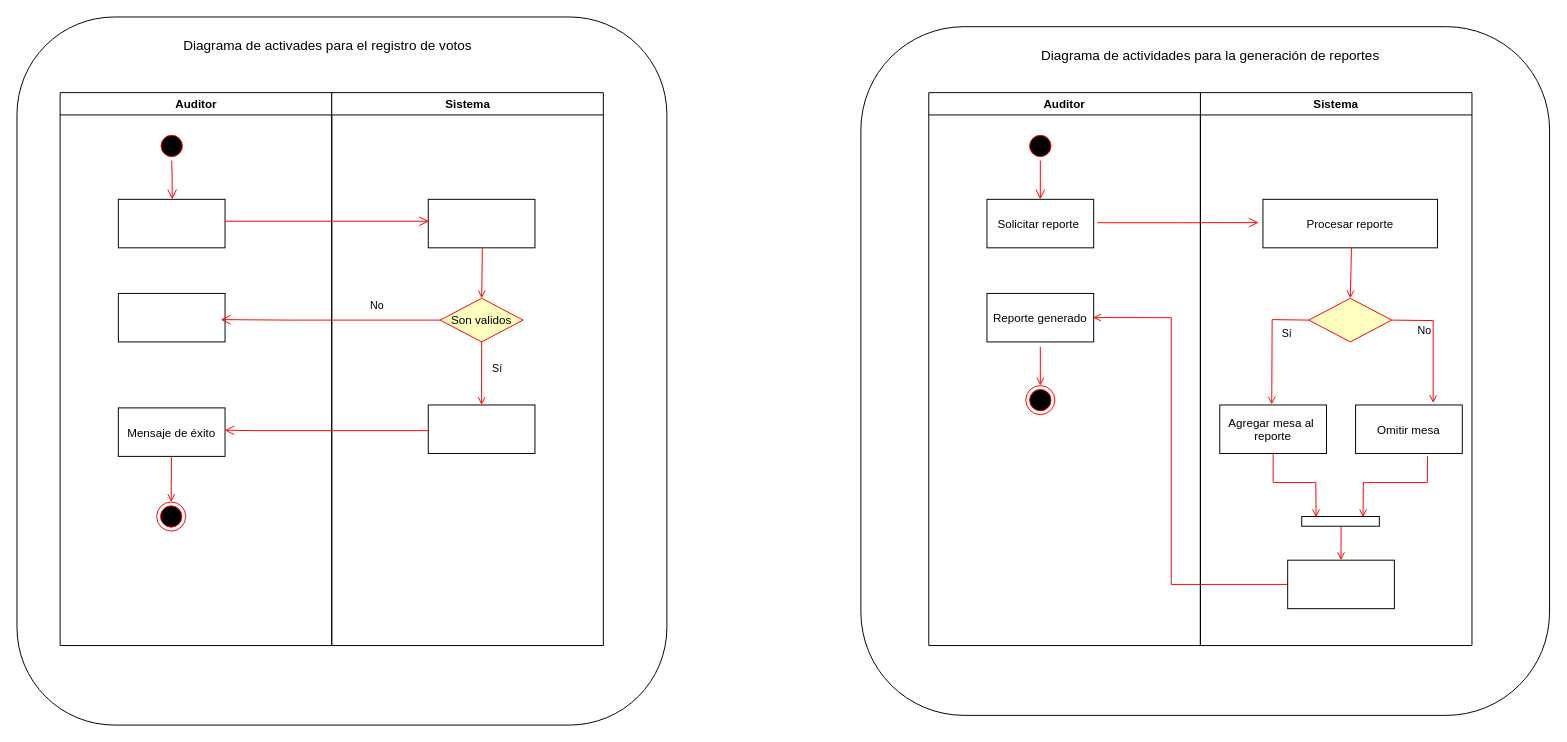
This 1567x742 diagram has some shape labels left out. Each missing label, with the centre of its shape:
Almacenar en la db: the point at 481,428
Error al auditor: the point at 171,317
Generar reporte: the point at 1340,584
Hay votos: the point at 1350,319
Ingresar votos: the point at 171,223
Validar el registro: the point at 481,223
